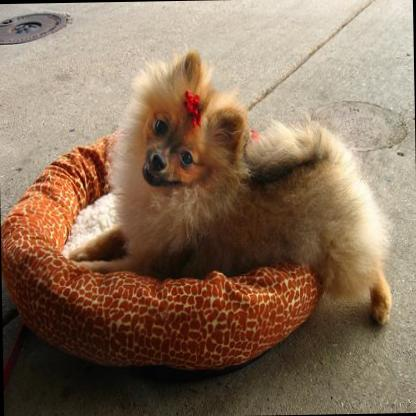Pomeranian: (62, 44, 391, 333)
